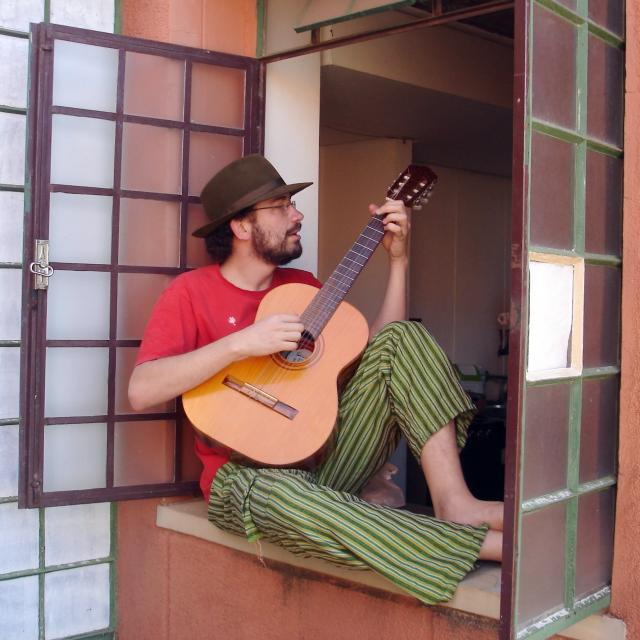guitar: (179, 162, 446, 469)
